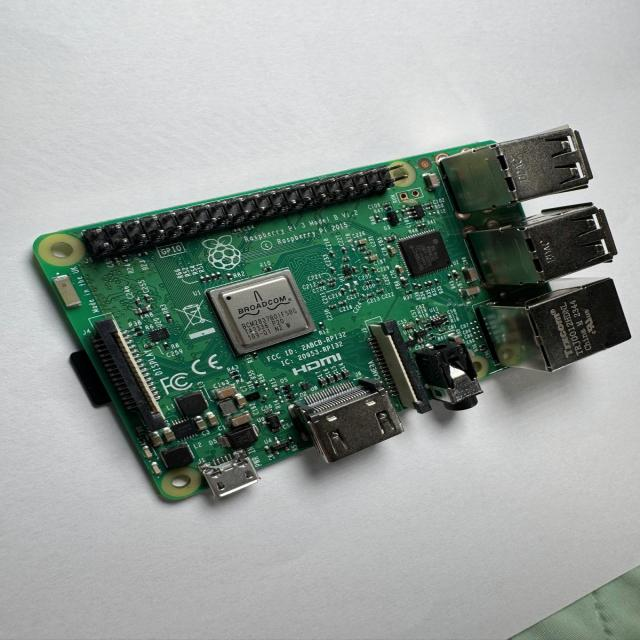CPU: (205, 269, 315, 358)
Ethernet: (500, 278, 630, 375)
GPIO: (81, 161, 409, 264)
HDMI: (290, 380, 406, 467)
RAM-3: (391, 230, 463, 283)
Raspberry: (30, 128, 631, 506)
